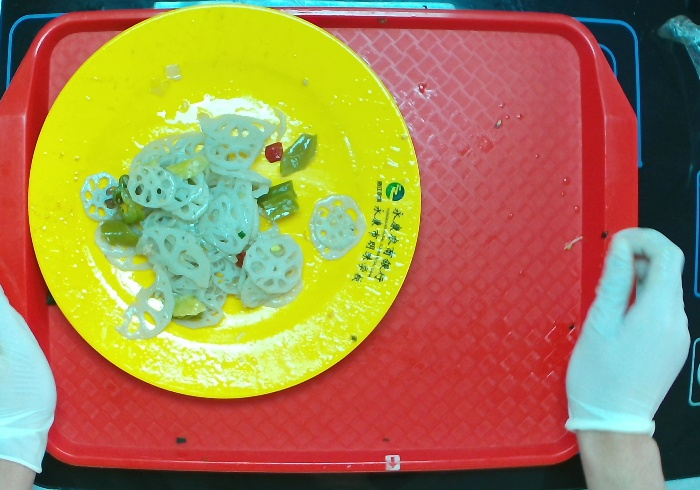YKMZ-Huang_Se_Mian_Pan: (28, 2, 422, 400)
